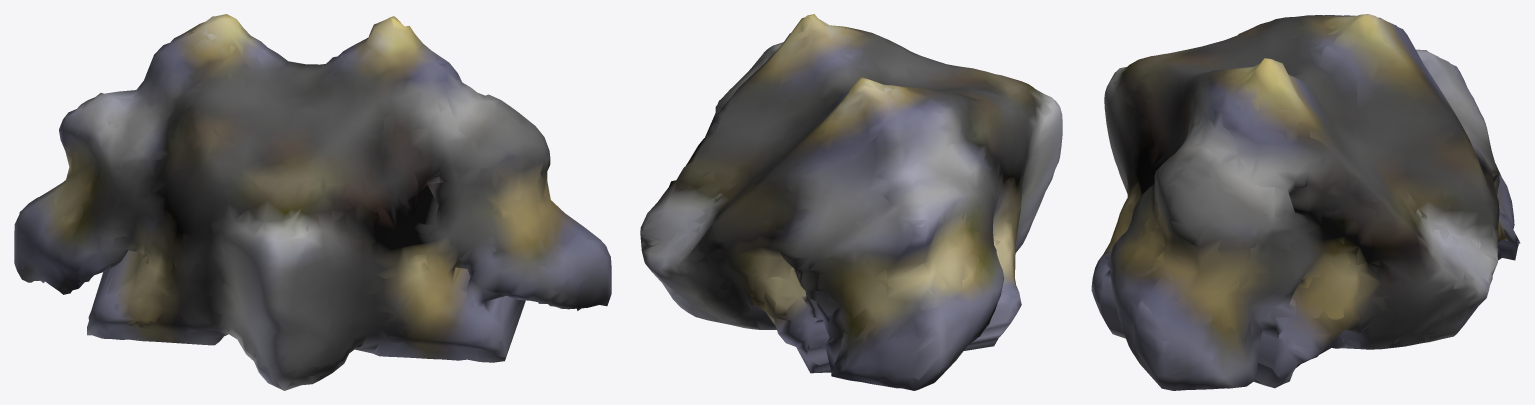
File: soviet_sentry_gun.glb
3 views of the same model, side by side, from view 1: azimuth 30°, elevation 25°; view 2: azimuth 150°, elevation 25°; view 3: azimuth 270°, elevation 25° (orthographic). The views are drawn at different scales.
Parts seen in each view (by area): view 1: soviet_sentry_gun; view 2: soviet_sentry_gun; view 3: soviet_sentry_gun.
Part boxes in pixels (x1,y1,x2,y2): soviet_sentry_gun: (14, 14, 611, 390); soviet_sentry_gun: (640, 14, 1062, 390); soviet_sentry_gun: (1091, 14, 1520, 390).
Bounding box in the file's own units: 1.85 × 1.17 × 1.72.
